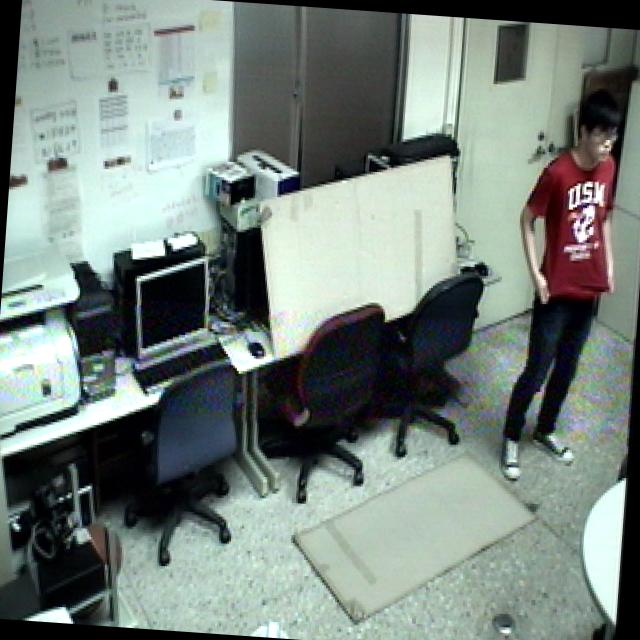stand: (491, 70, 634, 492)
